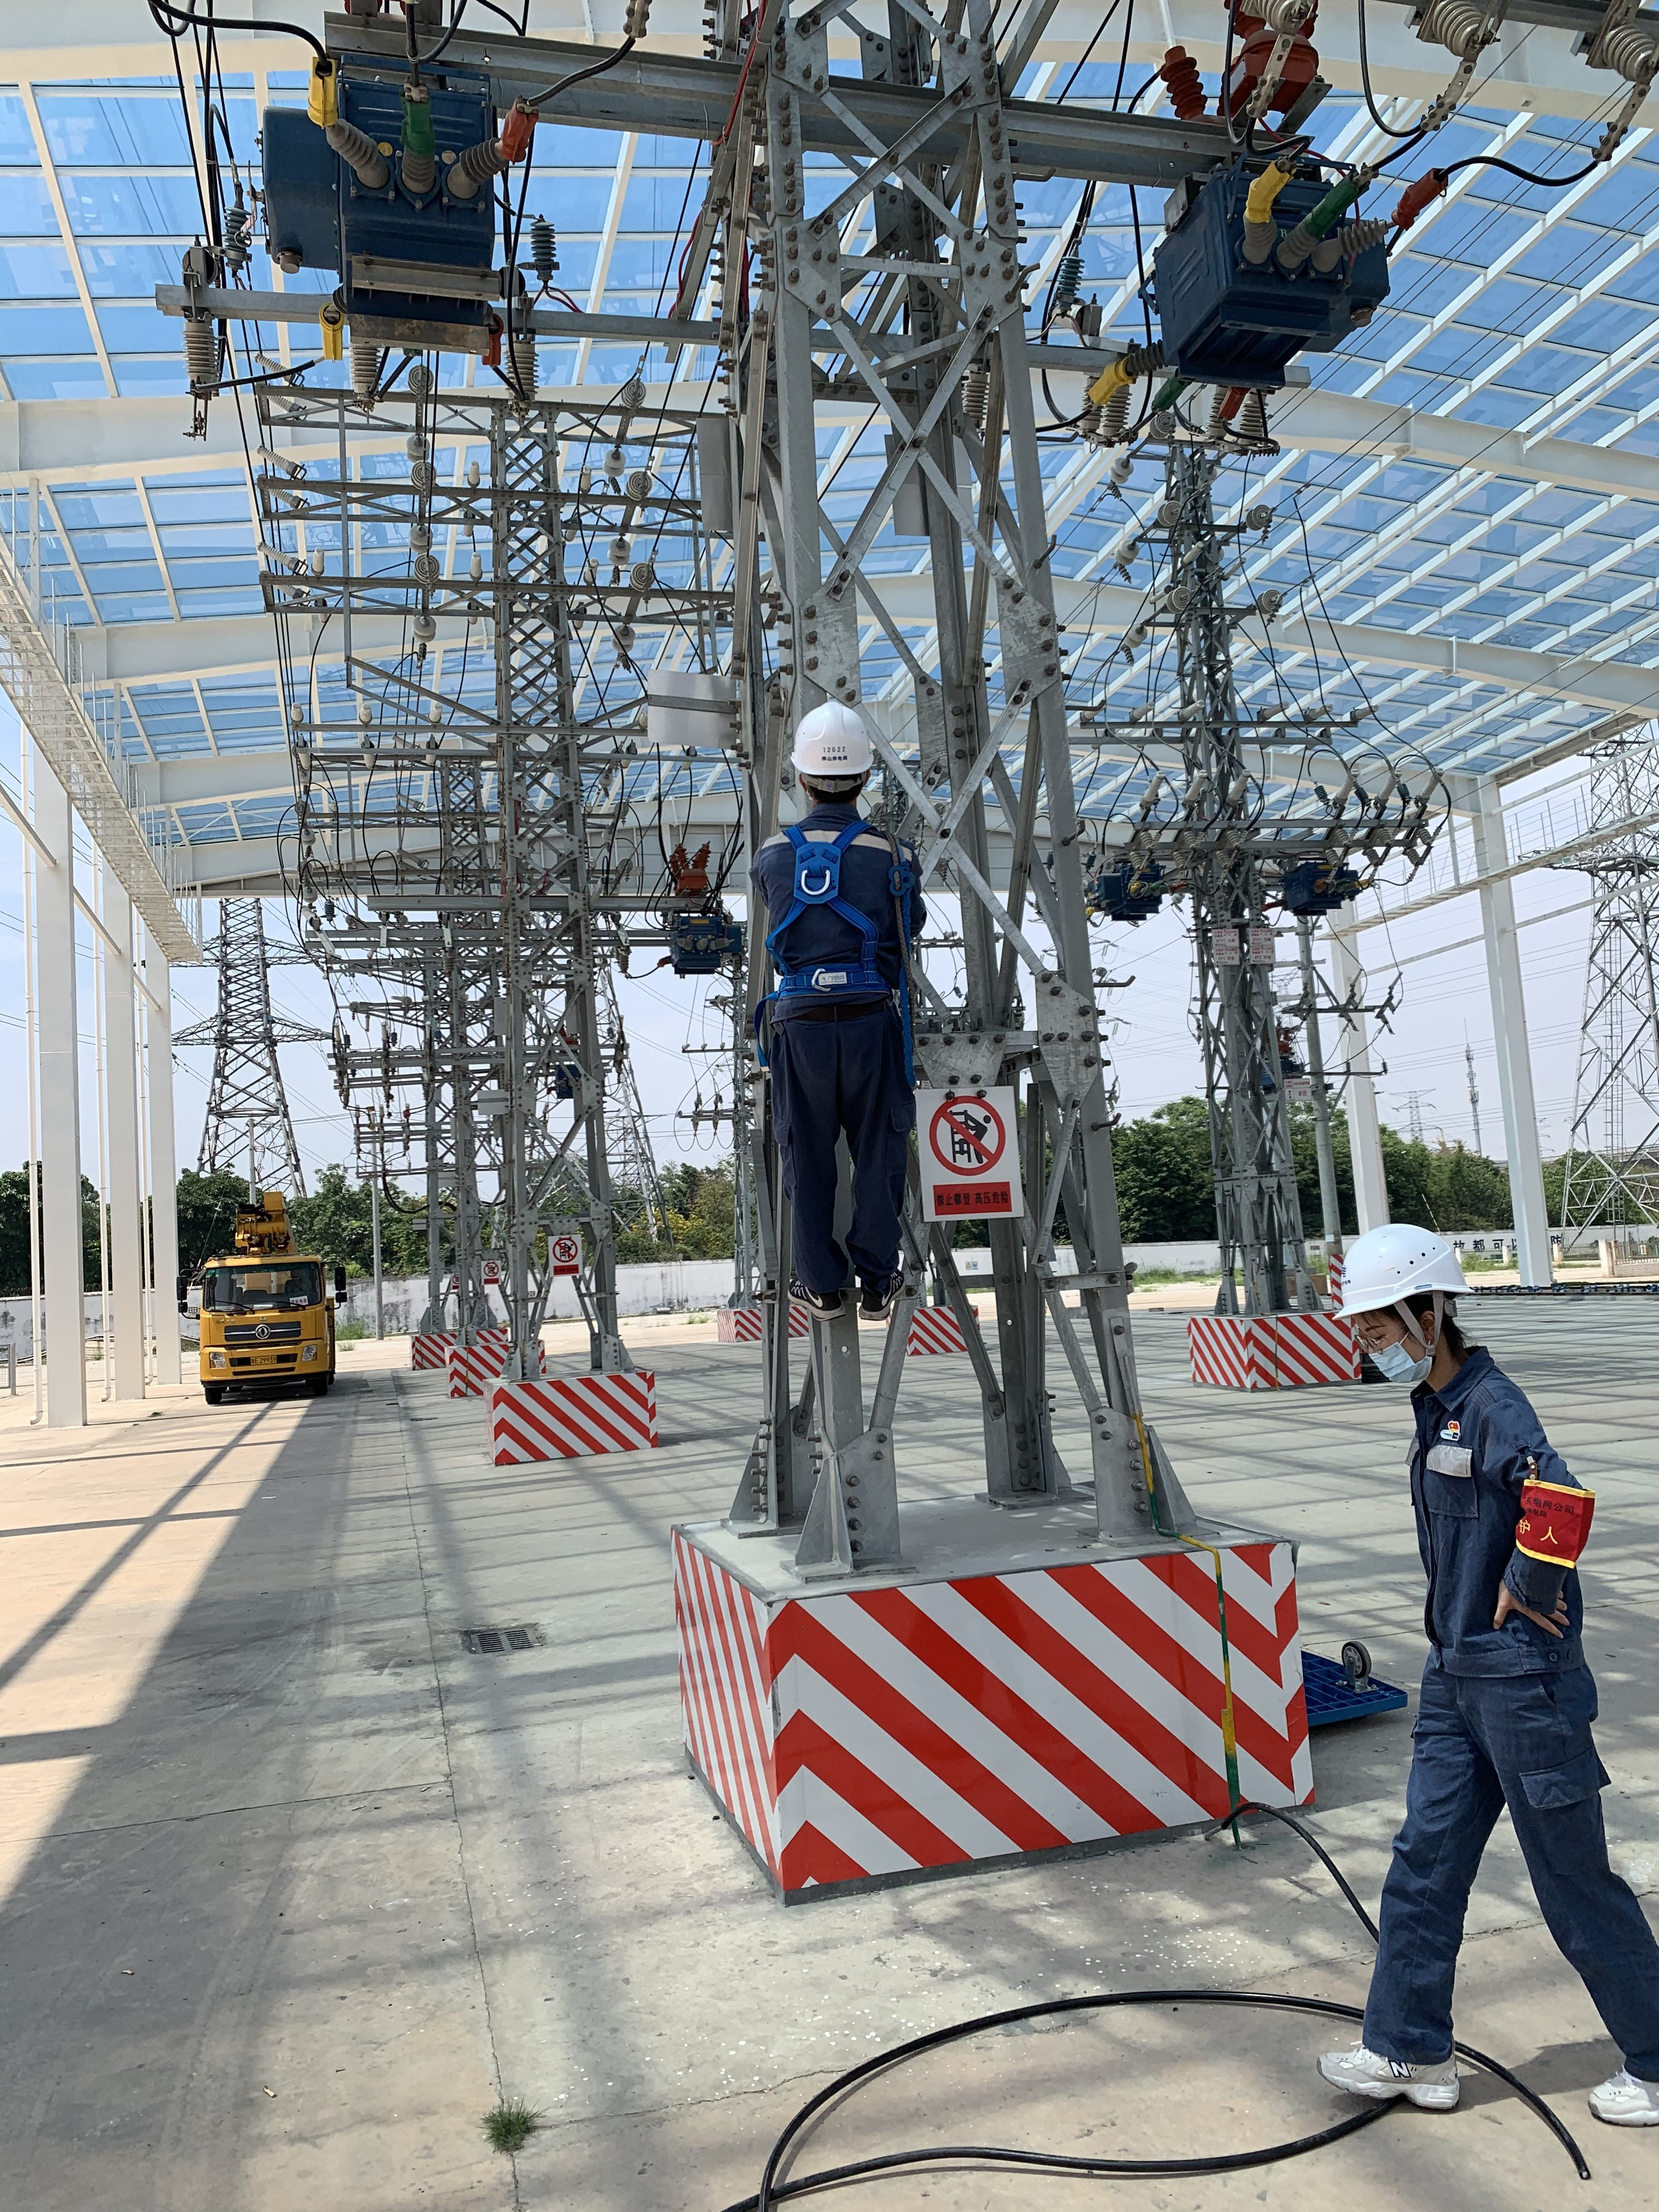downsuit: (1389, 1679, 1654, 2073), (758, 1022, 932, 1287)
upsuit: (1403, 1366, 1596, 1642), (753, 805, 920, 972)
